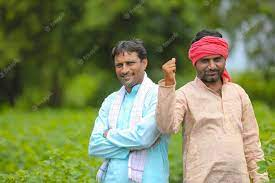men: (179, 28, 237, 88), (105, 37, 152, 91)
